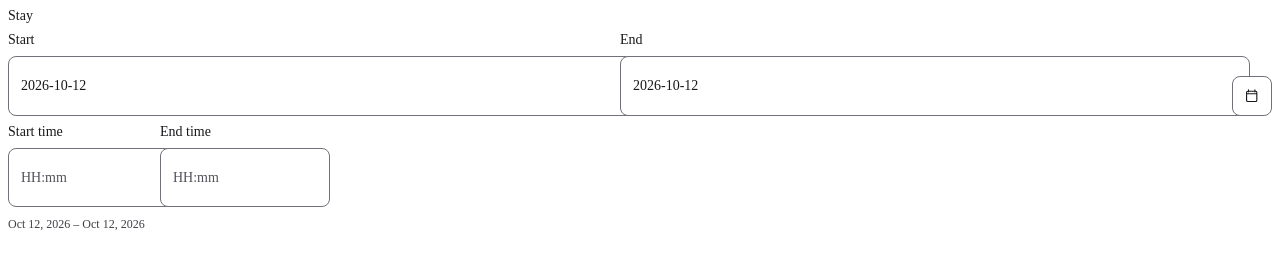
Test: new controls › orders a same-day time range and rejects an impossible time
Step 1. Type "18:00" into the field labelled "Start time" → (93, 177), box 8,148 -> 178,207
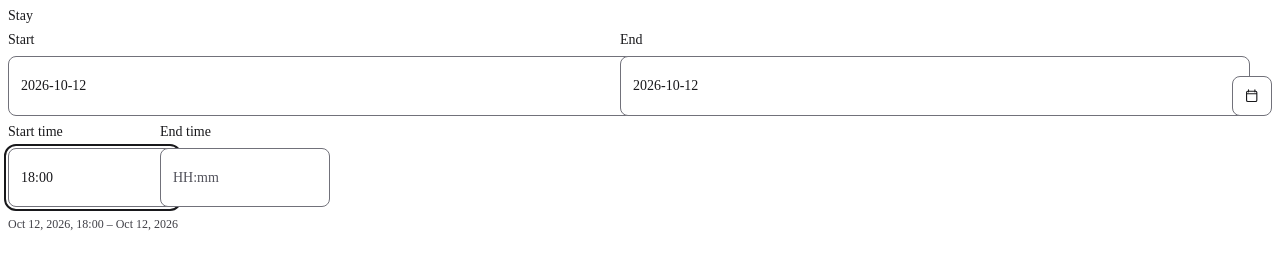
Step 2. Type "09:30" into the field labelled "End time" → (245, 177), box 160,148 -> 330,207
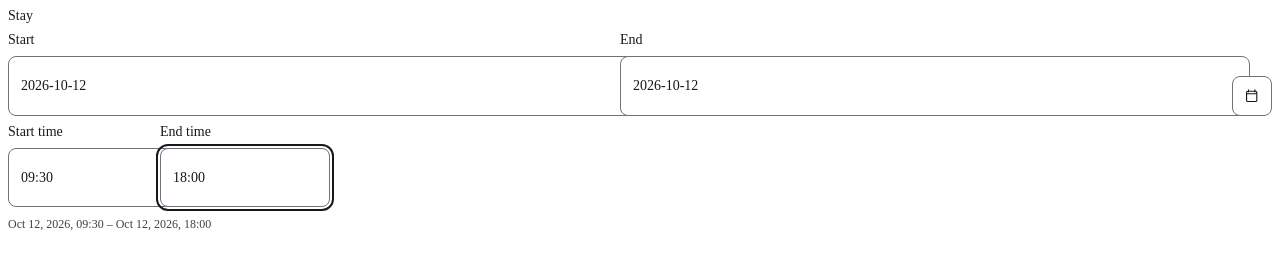
Step 3. Replace the text in the field labelled "End time" with "25:00" → (245, 177), box 160,148 -> 330,207
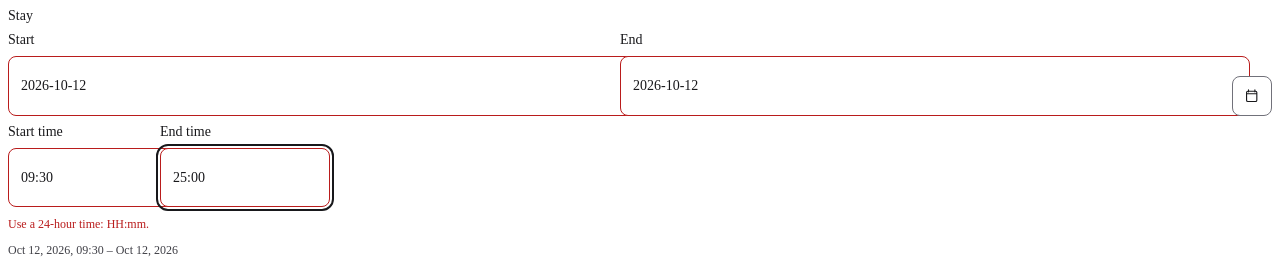
Check: the message reads "Use a 24-hour time: HH:mm.", box 8,217 -> 149,231
